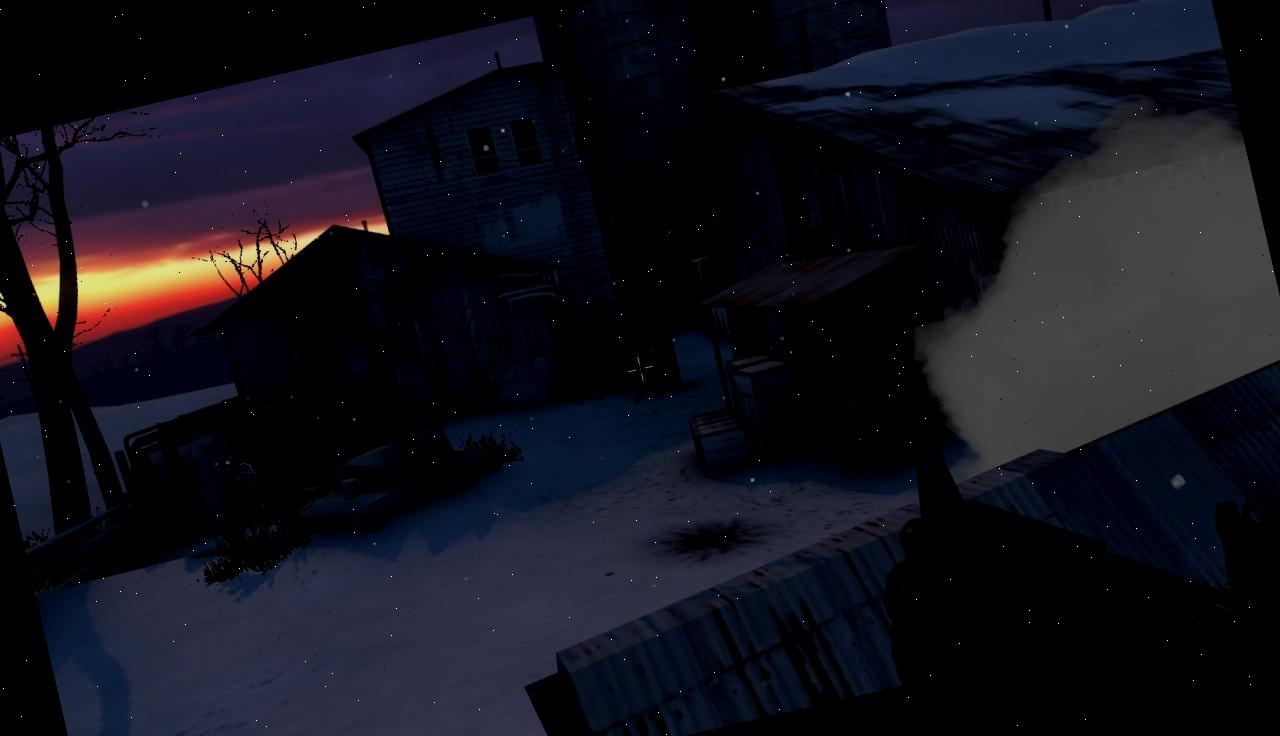ct: (636, 344, 670, 397)
rifle: (870, 356, 1280, 680)
